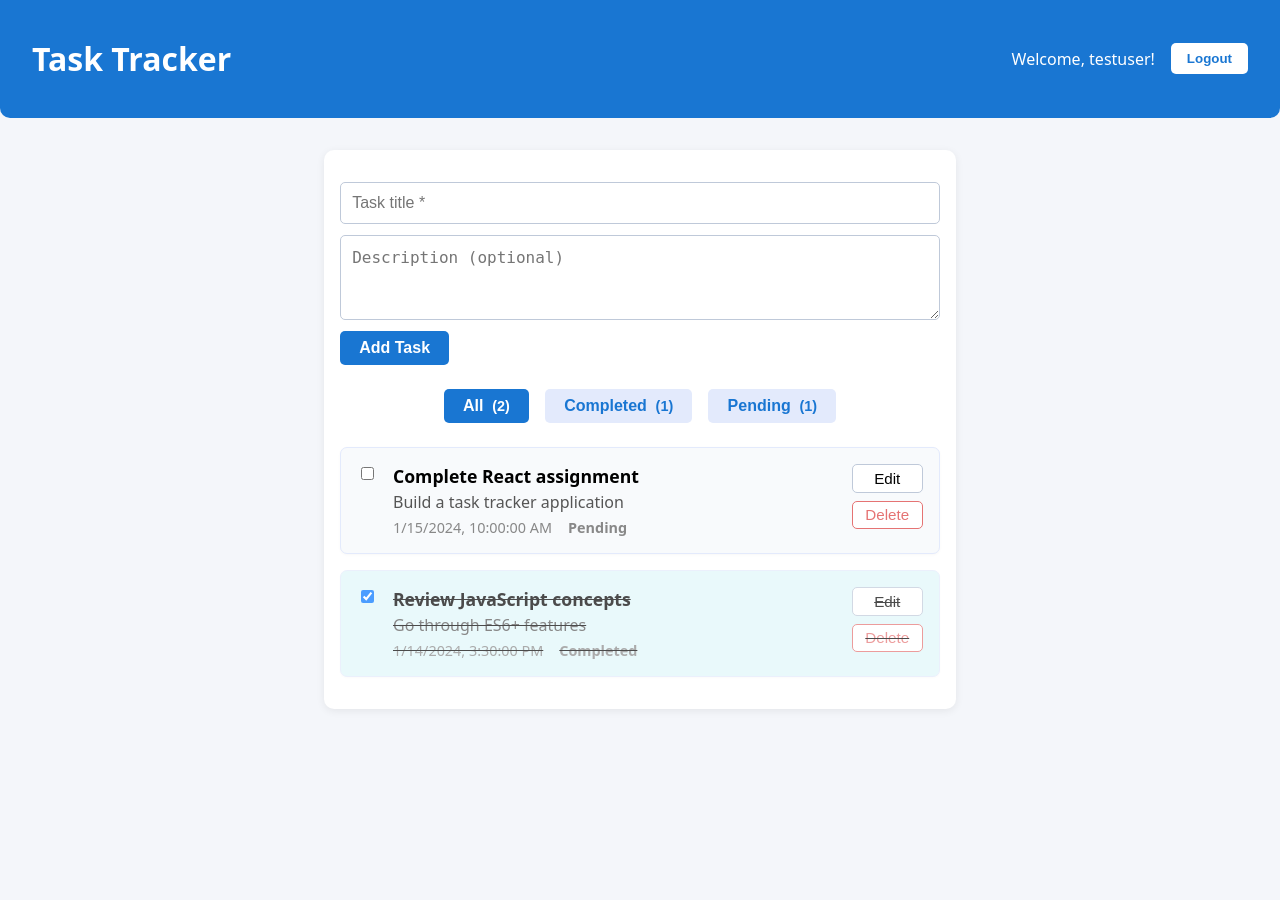
it: Task Tracker App › filters pending tasks
What coordinates should you click on to do the following:
click the button "Pending (1)"
I would click on:
 (772, 406)
Its box is x1=708 y1=389 x2=836 y2=423.
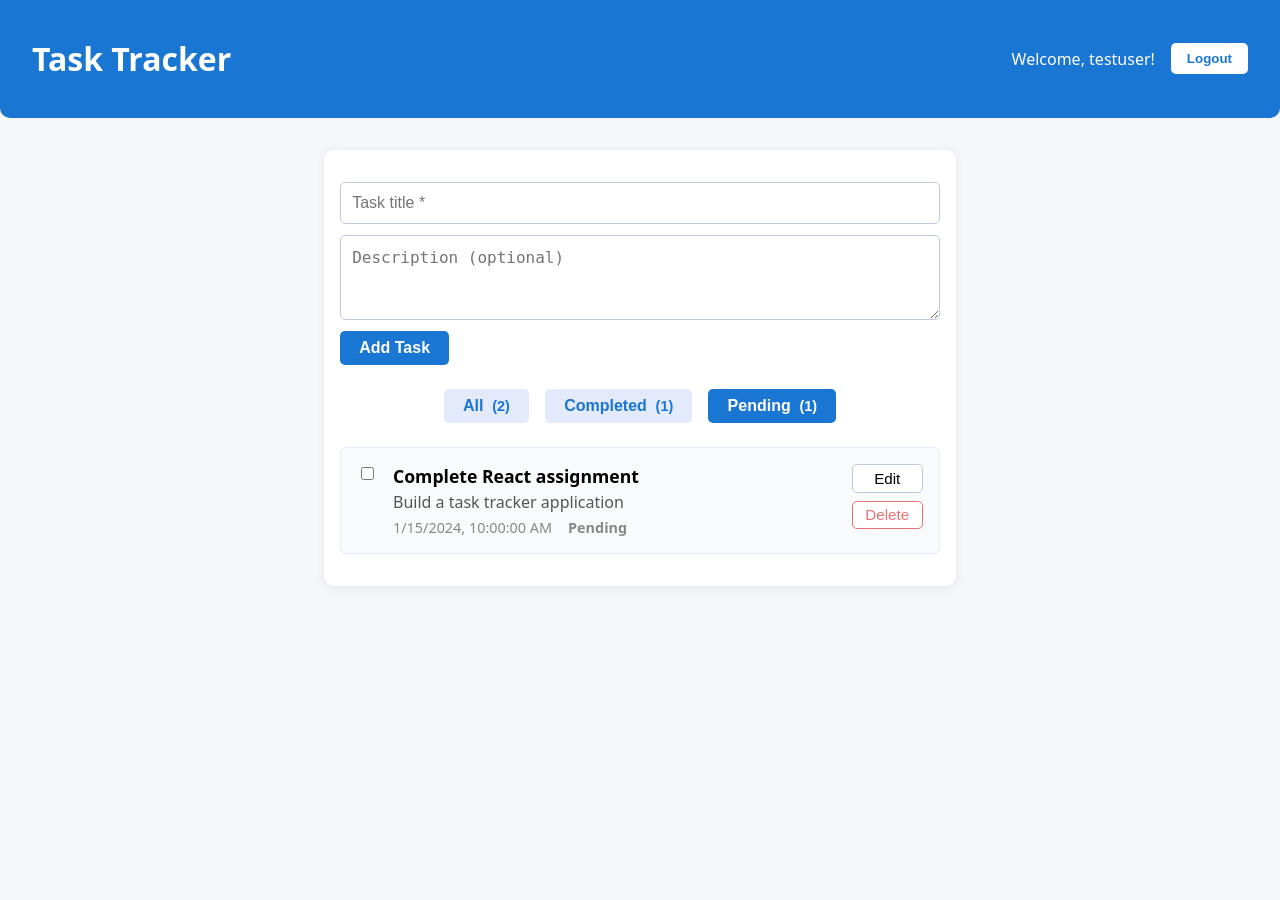
Expected: the text "Complete React assignment" is shown, x1=393 y1=464 x2=639 y2=488
Expected: the text "Review JavaScript concepts" is gone
